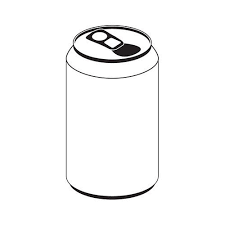can: (65, 25, 159, 201)
